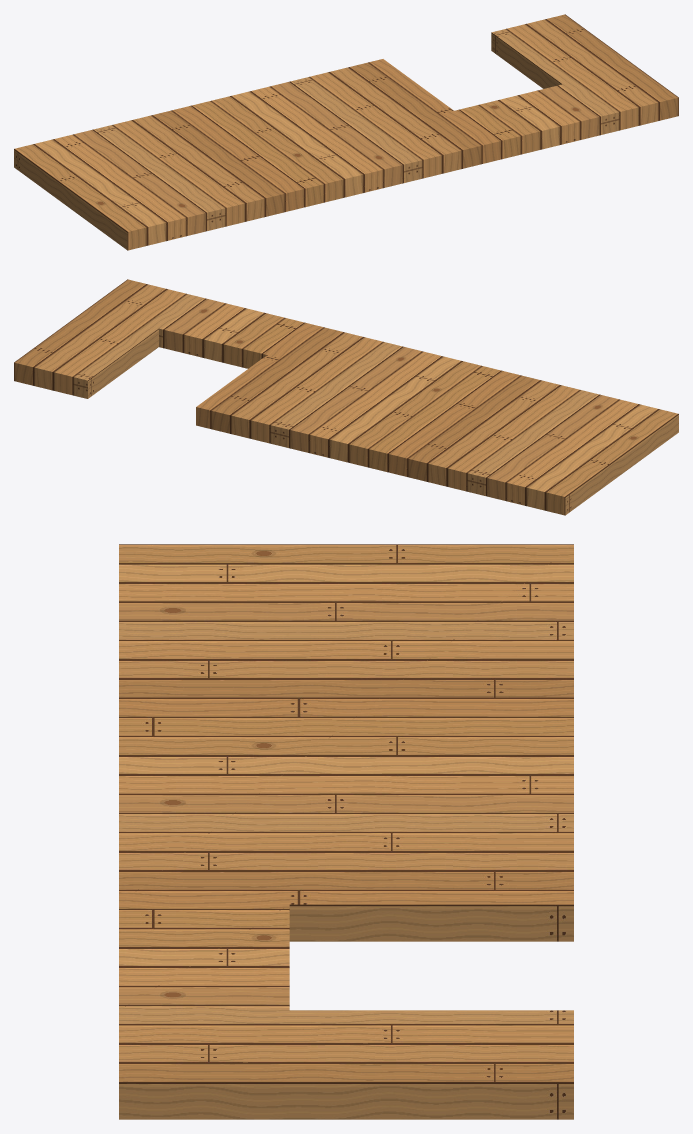
The model's file is STAIR_STARBOARD_END.glb.
3 views of the same model, one above another, from view 1: azimuth 30°, elevation 25°; view 2: azimuth 150°, elevation 25°; view 3: azimuth 270°, elevation 25° (orthographic). The views are drawn at different scales.
Visible parts, largest first — view 1: STAIR_STARBOARD_END; view 2: STAIR_STARBOARD_END; view 3: STAIR_STARBOARD_END.
Part boxes in pixels (x1,y1,x2,y2): STAIR_STARBOARD_END: (14, 14, 678, 250); STAIR_STARBOARD_END: (14, 279, 678, 515); STAIR_STARBOARD_END: (119, 544, 573, 1119).
Bounding box in the file's own units: 5.6 × 0.18 × 2.
Materials: 1 (1 with a texture image).
